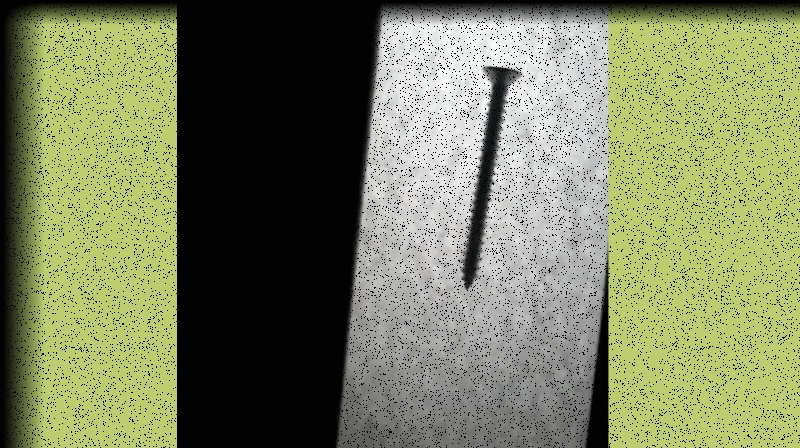S002: (459, 63, 525, 293)
